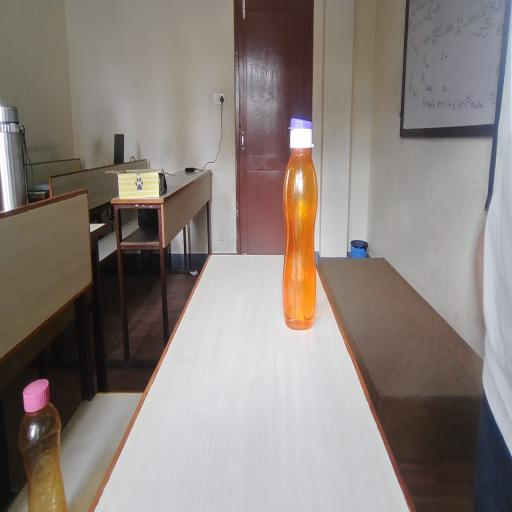Bottle: (272, 100, 325, 327)
